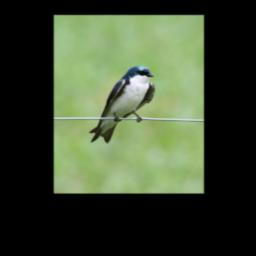Swallow: (88, 65, 155, 144)
